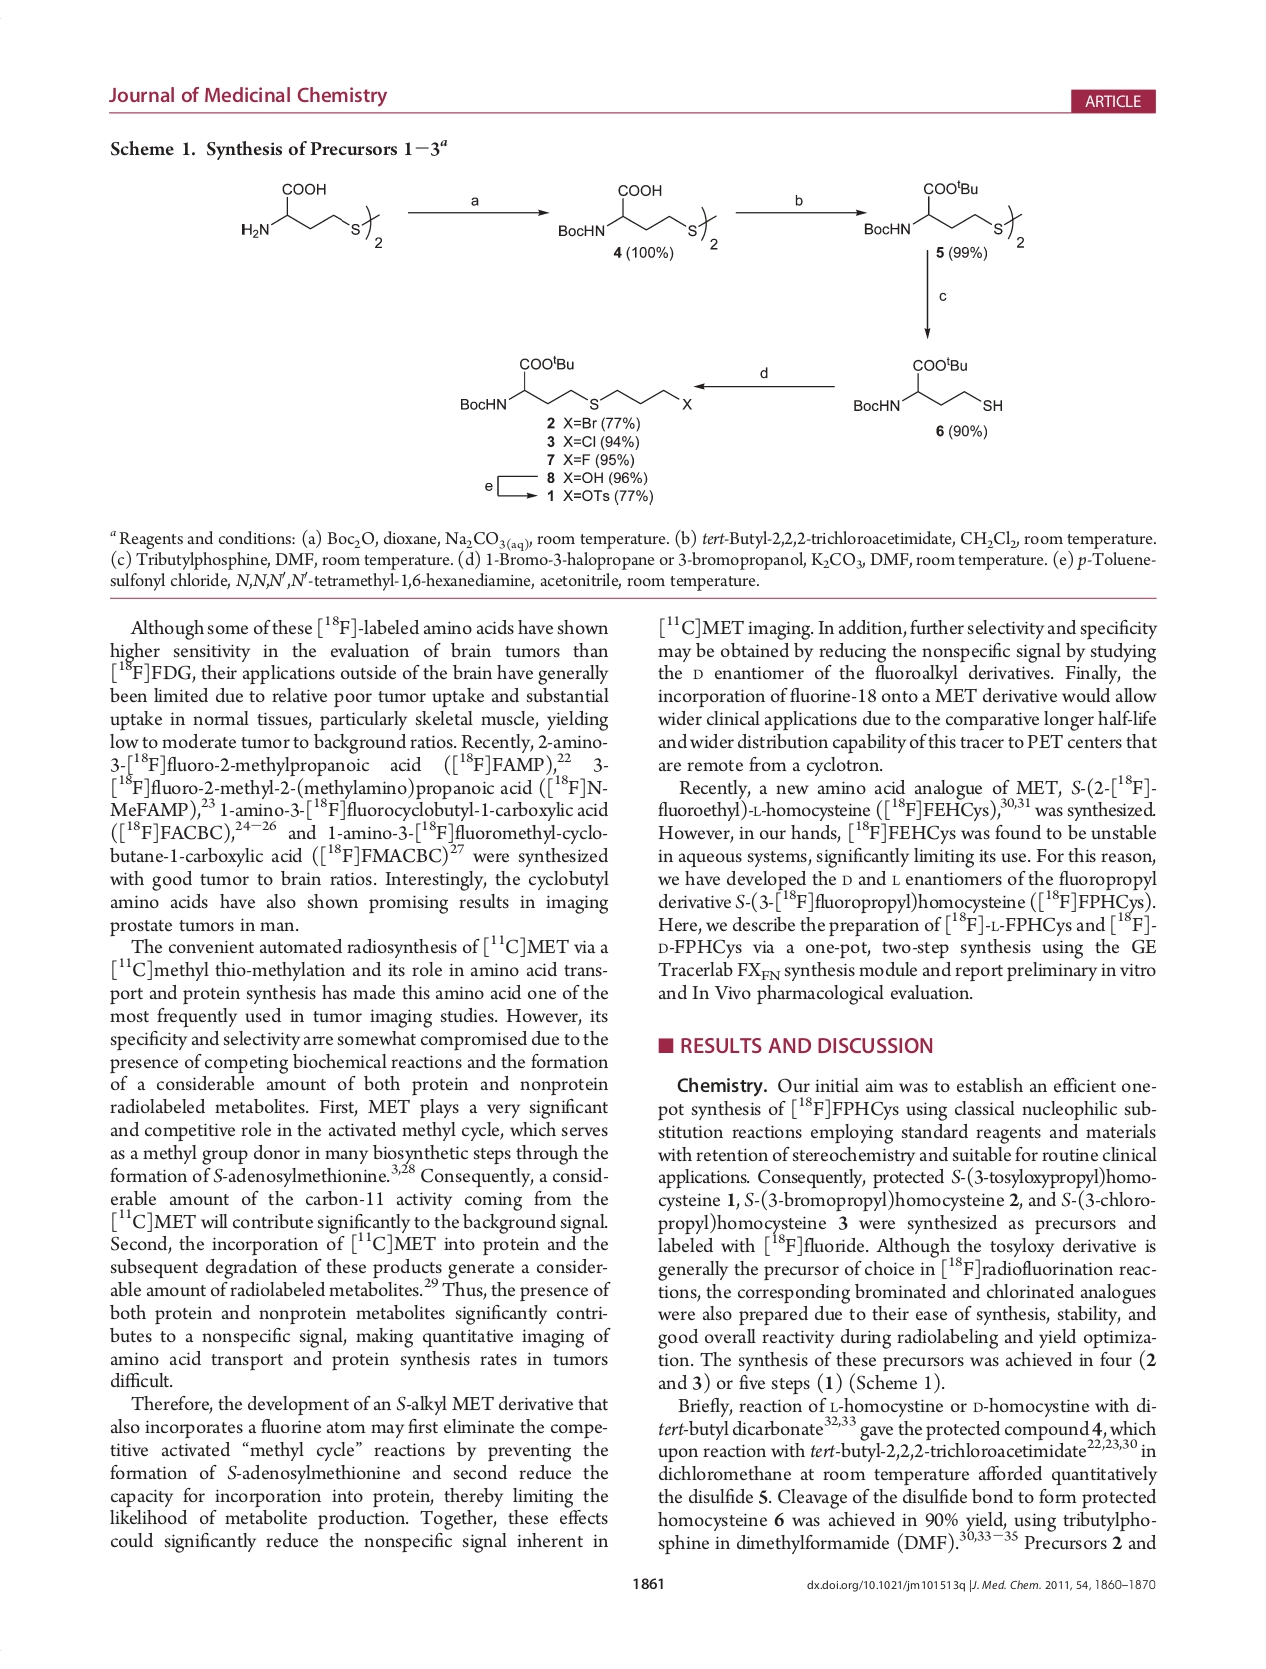exist_molecular: (455, 352, 696, 416), (556, 176, 722, 253), (860, 174, 1029, 250), (233, 177, 386, 250), (850, 354, 1004, 418)
